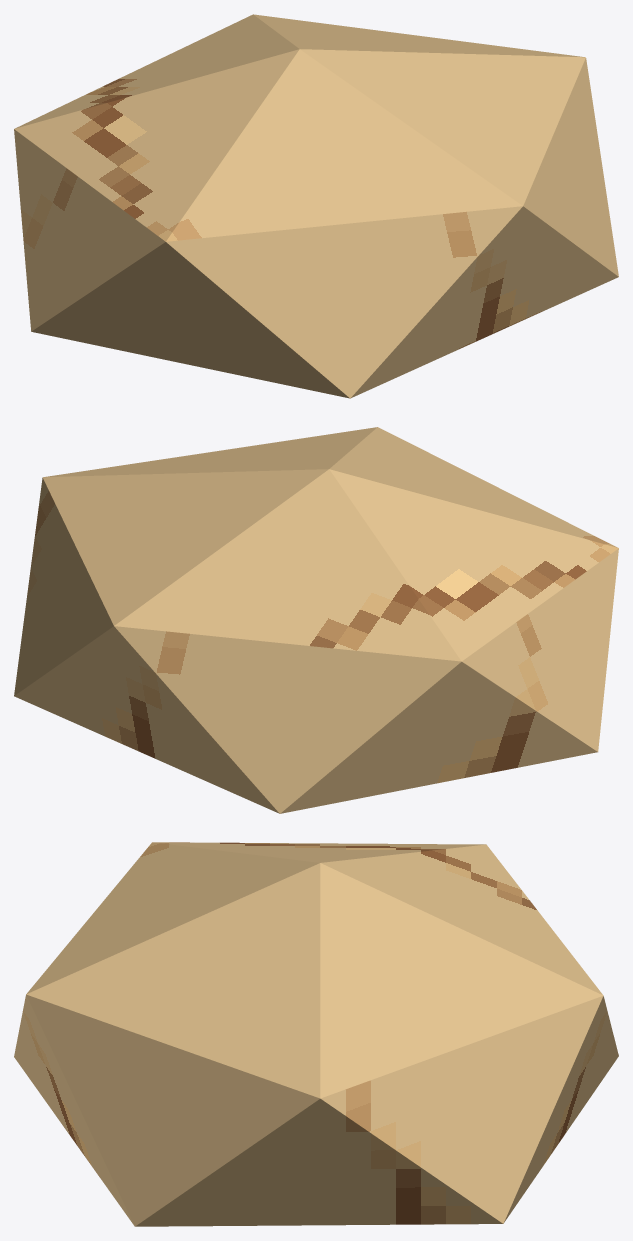
File: enfeite_pedra_baixa.glb
3 views of the same model, one above another, from view 1: azimuth 30°, elevation 25°; view 2: azimuth 150°, elevation 25°; view 3: azimuth 270°, elevation 25° (orthographic). The views are drawn at different scales.
Parts seen in each view (by area): view 1: deserto_enfeite_pedra_baixa; view 2: deserto_enfeite_pedra_baixa; view 3: deserto_enfeite_pedra_baixa.
Part boxes in pixels (x1,y1,x2,y2): deserto_enfeite_pedra_baixa: (14,14,618,398); deserto_enfeite_pedra_baixa: (14,427,618,813); deserto_enfeite_pedra_baixa: (14,842,618,1226).
Size of the model in its own units: 0.4304 by 0.2264 by 0.3754.
1 material, 1 textured.
